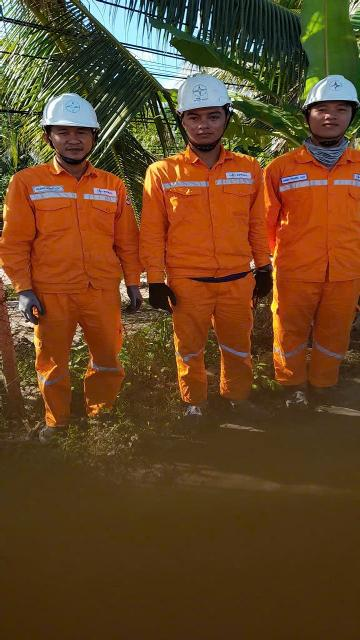gloves: (10, 279, 57, 338), (243, 251, 283, 304), (145, 277, 188, 325), (113, 272, 151, 323)
helmet: (33, 84, 112, 149), (298, 59, 360, 121), (173, 68, 238, 125)
shoes: (21, 405, 71, 455), (85, 403, 142, 444), (170, 388, 218, 435), (228, 391, 279, 427), (318, 374, 359, 418), (282, 376, 314, 419)
